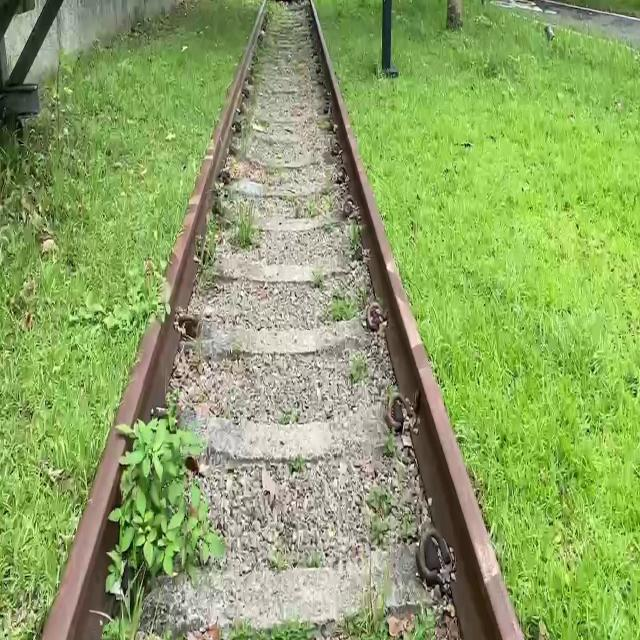rail-track: (146, 2, 456, 633)
